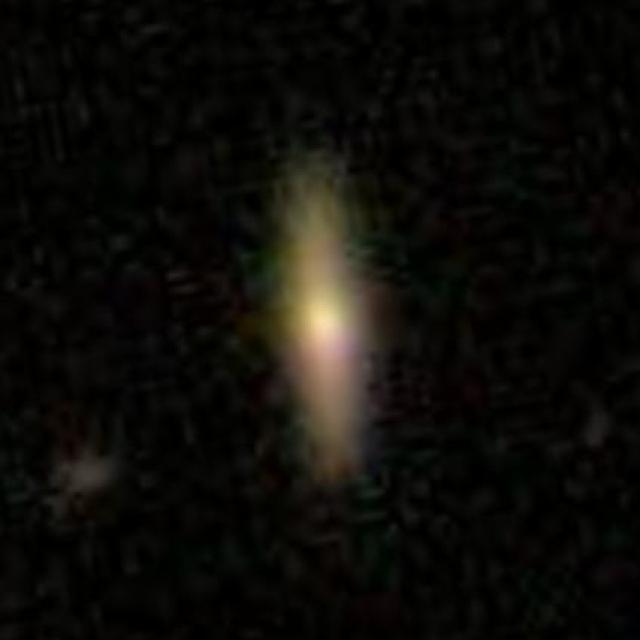galaxy: (243, 142, 400, 508), (39, 441, 142, 507)
